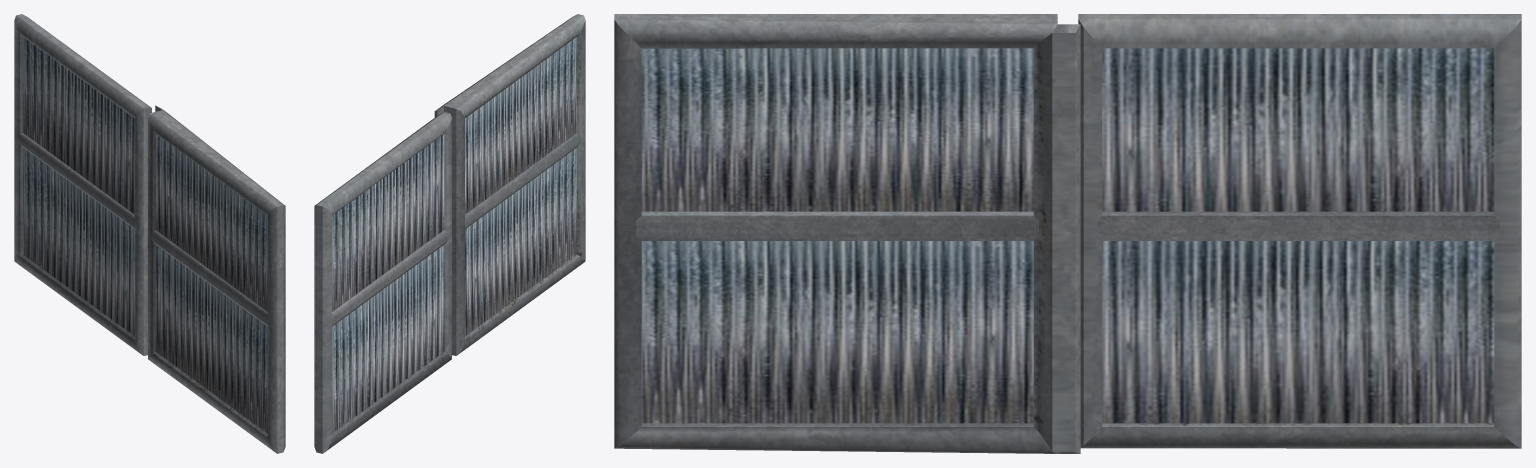
File: portao.fbx
3 renders of one model, left to right at view 1: azimuth 30°, elevation 25°; view 2: azimuth 150°, elevation 25°; view 3: azimuth 270°, elevation 25°, orthographic. The views are drawn at different scales.
Visible parts, largest first — view 1: portao; view 2: portao; view 3: portao.
Part boxes in pixels (x1=…): portao: x1=14, y1=14, x2=285, y2=453; portao: x1=314, y1=14, x2=585, y2=453; portao: x1=614, y1=14, x2=1521, y2=453.
Size of the model in its own units: 0.2952 by 3.39 by 6.48.
